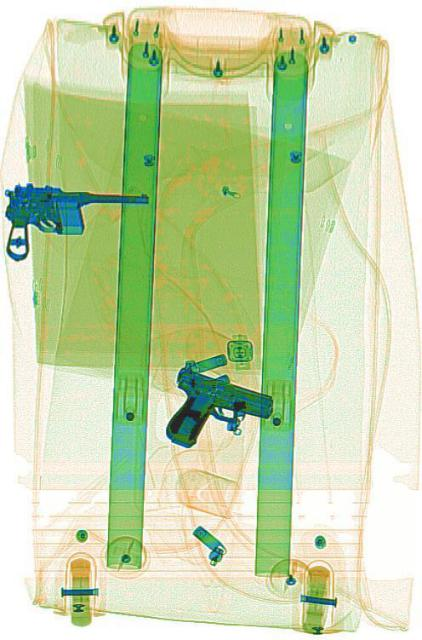Gun: (1, 180, 148, 264), (162, 362, 274, 472)
